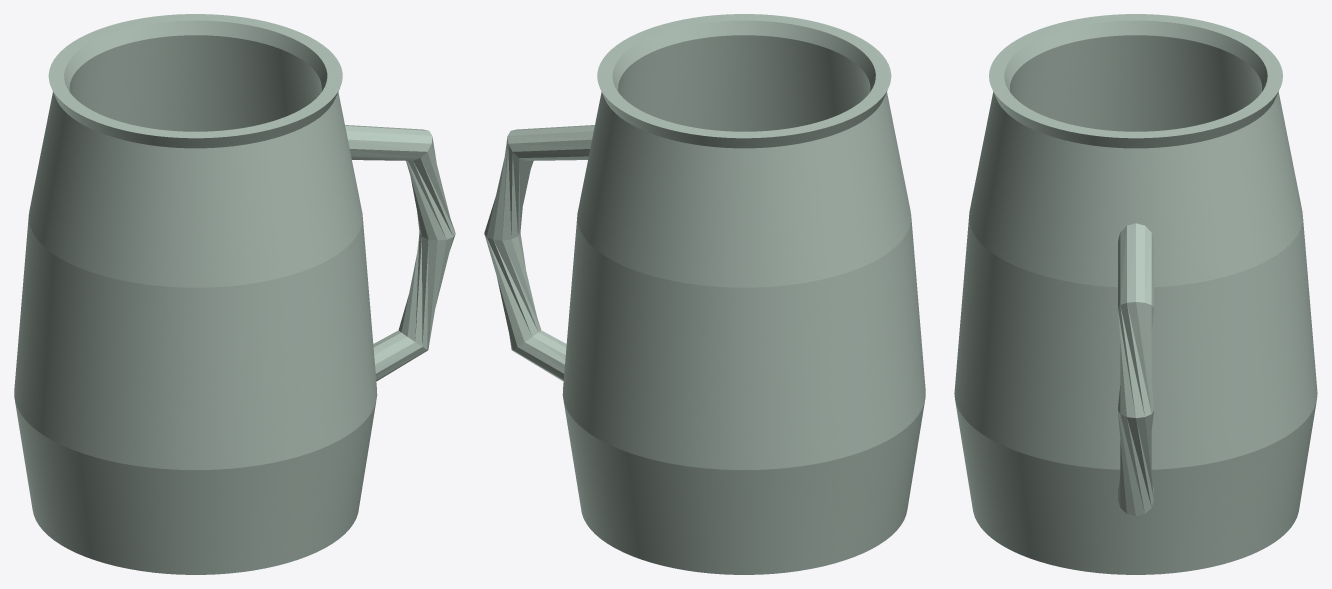
The model's file is misc_com_tankard_01.dae.
The picture shows the model from 3 angles, left to right: view 1: azimuth 30°, elevation 25°; view 2: azimuth 150°, elevation 25°; view 3: azimuth 270°, elevation 25°; orthographic projection.
Visible parts, largest first — view 1: porcelain; view 2: porcelain; view 3: porcelain.
Part boxes in pixels (box(x1,y1,x2,y2)): porcelain: box(14, 14, 455, 574); porcelain: box(484, 14, 925, 574); porcelain: box(954, 14, 1317, 574).
Size of the model in its own units: 13.98 by 10.59 by 14.19.
